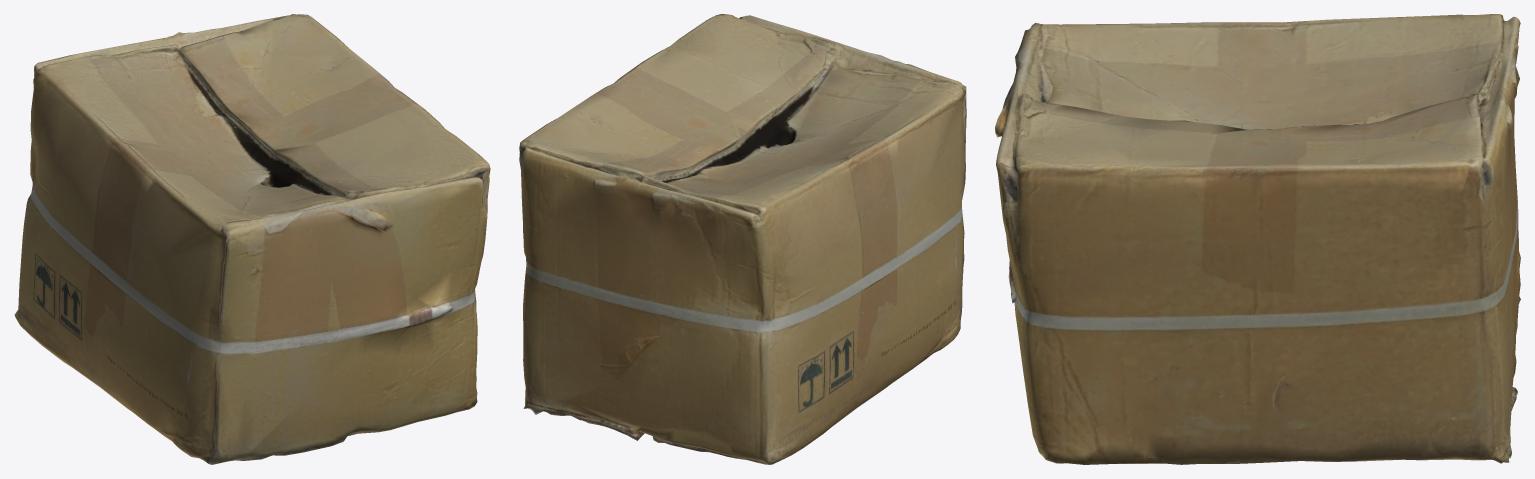
Rendered from cardboard_box_01.glb.
The picture shows the model from 3 angles, left to right: view 1: azimuth 30°, elevation 25°; view 2: azimuth 150°, elevation 25°; view 3: azimuth 270°, elevation 25°; orthographic projection. The views are drawn at different scales.
Parts seen in each view (by area): view 1: cardboard_box_01; view 2: cardboard_box_01; view 3: cardboard_box_01.
Boxes of the visible parts, box(x1,y1,x2,y2) form: cardboard_box_01: box(14, 14, 490, 464); cardboard_box_01: box(519, 14, 966, 464); cardboard_box_01: box(995, 14, 1520, 464).
Size of the model in its own units: 0.3868 by 0.3418 by 0.5159.
1 material, 1 textured.
